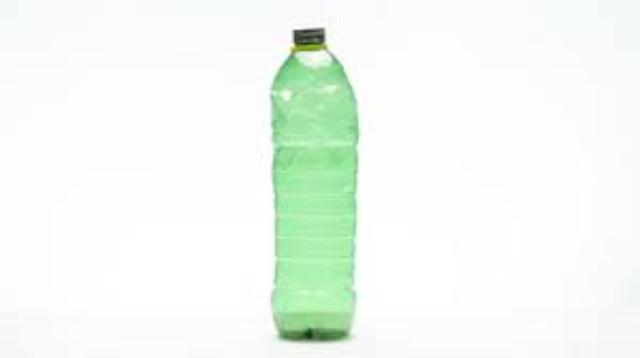plastic: (271, 26, 354, 335)
